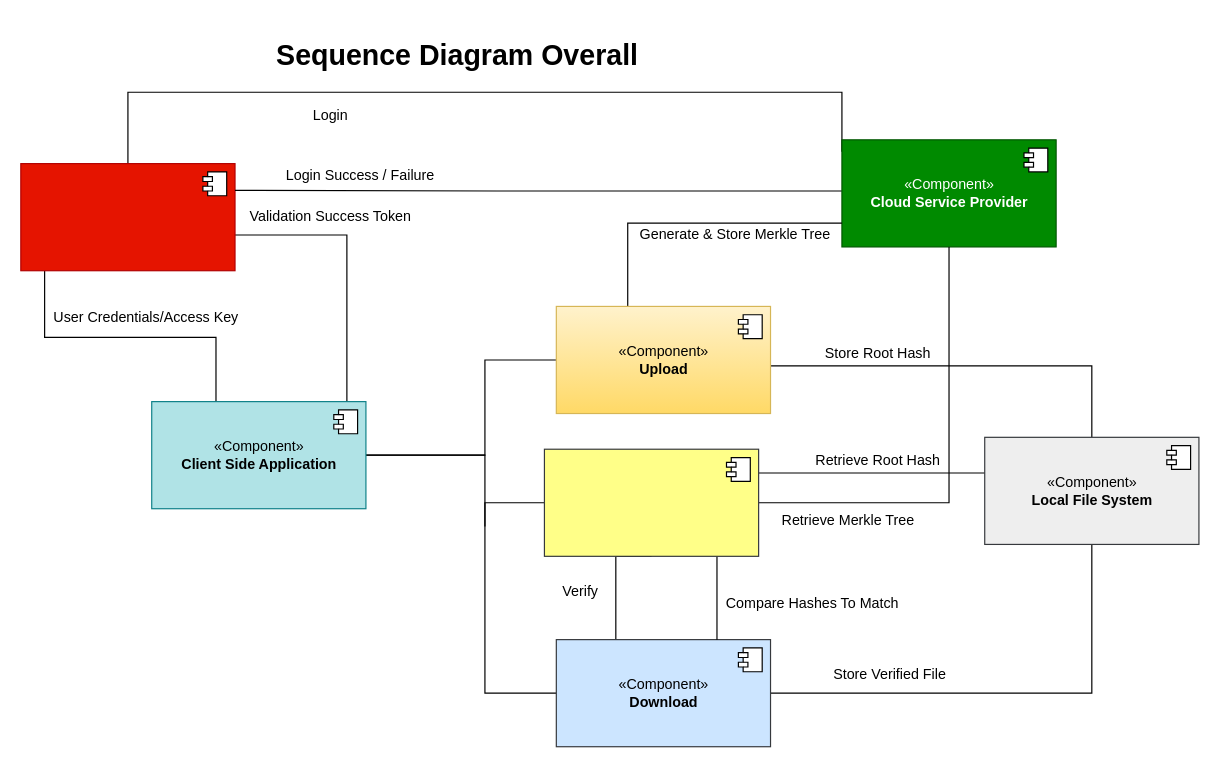
Some shapes in this 1220 by 768 pixel diagram are drawn without their labels. The box of each missing label's shape, as (x1, y1, x2, y2) in pixels:
«Component» Authentication: (20, 162, 235, 271)
«Component» Verify: (543, 448, 759, 556)
